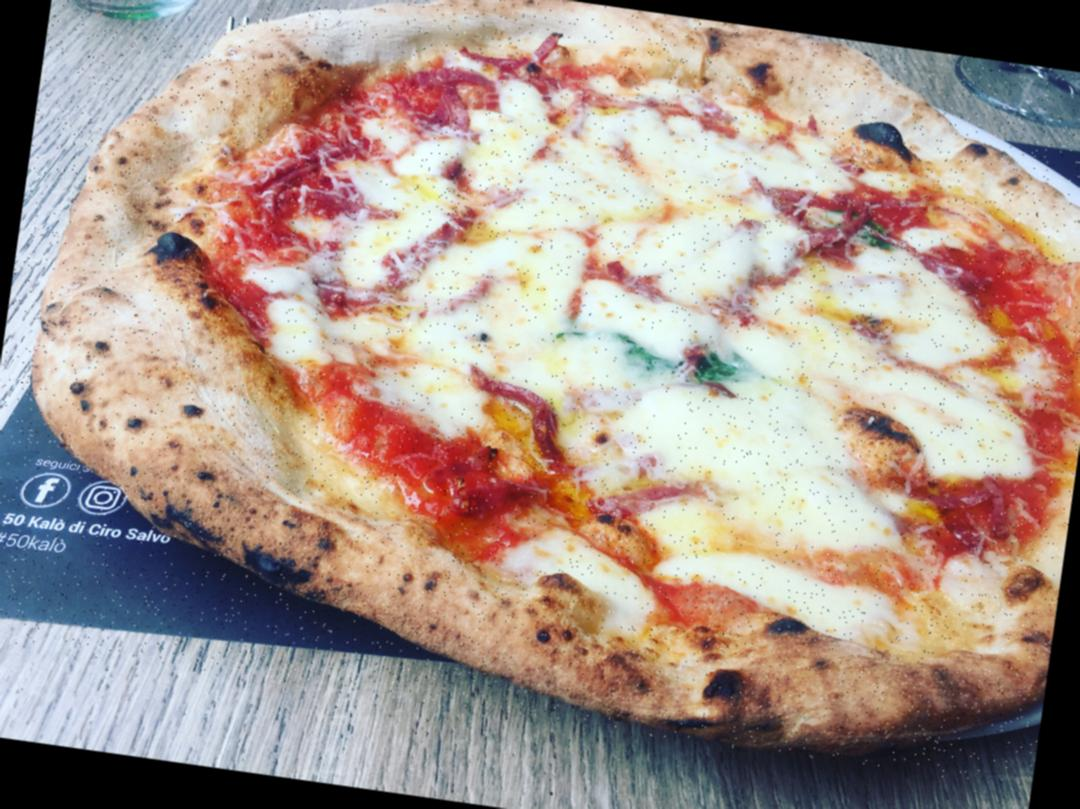Basil: (540, 310, 776, 398)
Pizza: (0, 0, 1080, 789)
